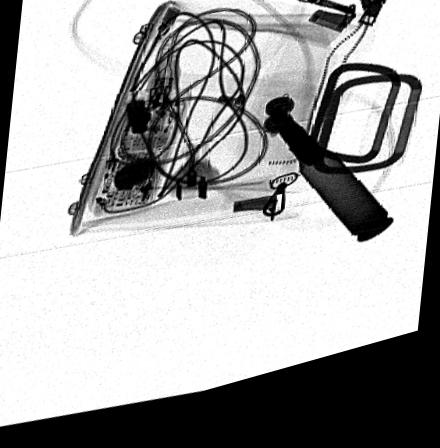Bullet: (265, 117, 394, 262)
